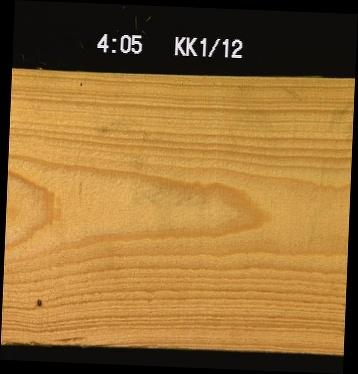dry_knot: (35, 296, 42, 307)
